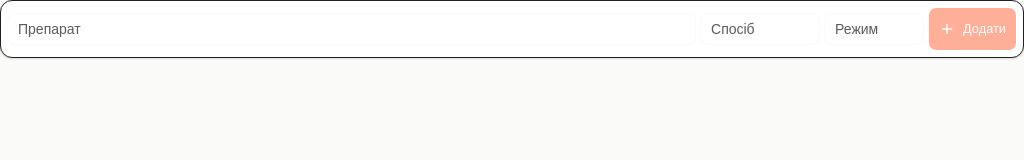
Test case: MedicineSearchInput — «Додати» button enablement (in-progress list bug) › shows an empty state when the catalog returns no matches
Type "Zzzz" into the field with placeholder "Препарат" at [352, 29], box [7, 13, 696, 45]
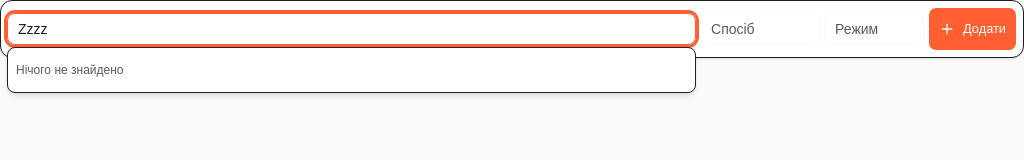
Now the text "Нічого не знайдено" is shown, box [16, 63, 124, 77]
